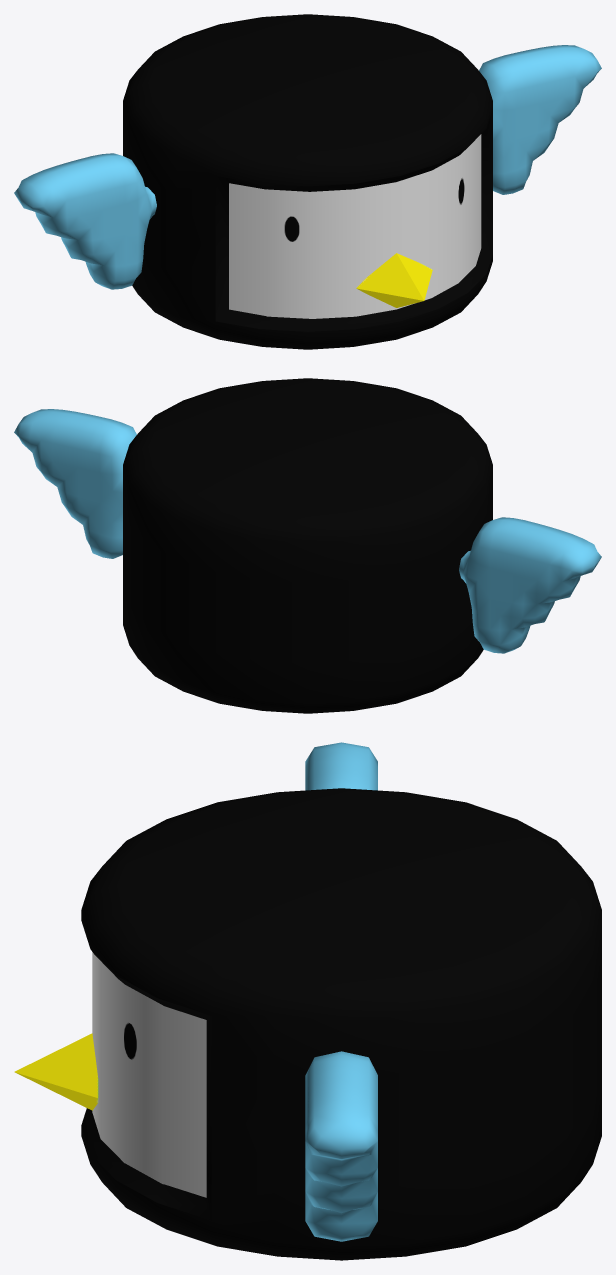
The model's file is penguintotem.FBX.
The picture shows the model from 3 angles, top to bottom: view 1: azimuth 30°, elevation 25°; view 2: azimuth 150°, elevation 25°; view 3: azimuth 270°, elevation 25°; orthographic projection. The views are drawn at different scales.
Visible parts, largest first — view 1: Cylinder001, Cylinder002, Box001, buri; view 2: Cylinder001, Box001; view 3: Cylinder001, Cylinder002, Box001, buri.
Part boxes in pixels (x1,y1,x2,y2): Cylinder001: [123, 14, 492, 349]; Cylinder002: [229, 134, 481, 318]; Box001: [14, 45, 601, 289]; buri: [356, 253, 432, 307]; Cylinder001: [123, 378, 492, 713]; Box001: [14, 409, 601, 653]; Cylinder001: [81, 788, 601, 1260]; Cylinder002: [92, 952, 206, 1197]; Box001: [305, 742, 377, 1241]; buri: [14, 1033, 98, 1110].
Size of the model in its own units: 73.15 by 24.2 by 46.1.
4 materials, 4 textured.
